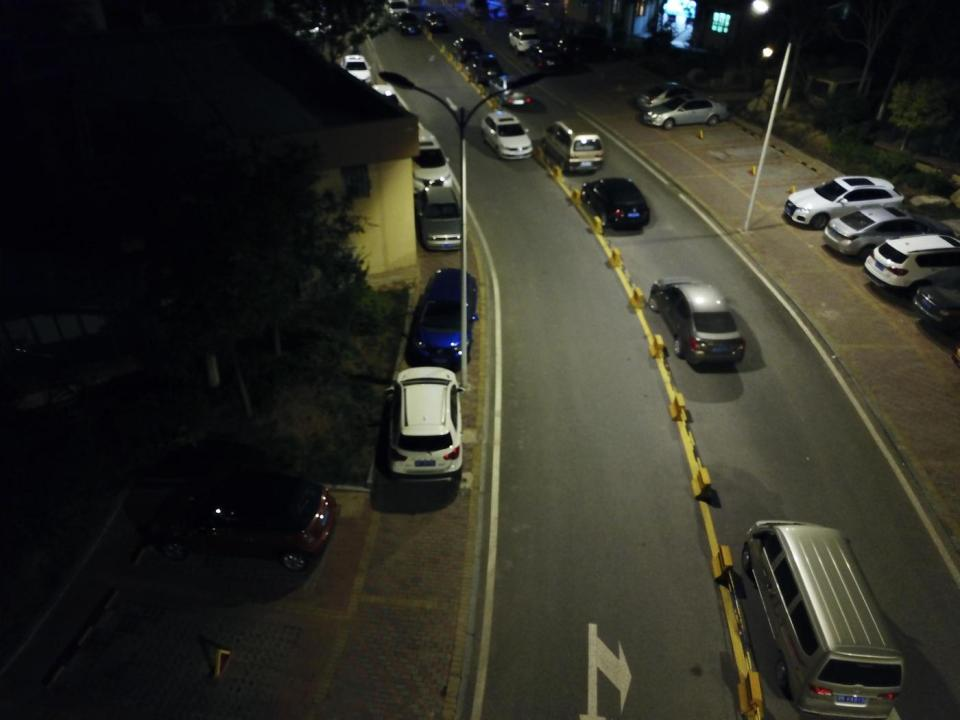car: (138, 468, 339, 574), (386, 366, 467, 486), (646, 272, 747, 368), (823, 204, 956, 262), (411, 269, 479, 370), (784, 174, 908, 228), (862, 231, 960, 296), (578, 171, 654, 240), (397, 116, 453, 194), (413, 187, 472, 253), (643, 93, 735, 128), (632, 78, 714, 114), (352, 73, 410, 123), (483, 108, 534, 164), (555, 36, 619, 63), (527, 43, 578, 74), (489, 74, 537, 105), (335, 53, 371, 85), (467, 55, 506, 84), (508, 26, 542, 54), (454, 37, 485, 64), (394, 12, 425, 38), (423, 9, 449, 34), (383, 0, 412, 19), (464, 0, 491, 20)
van: (738, 519, 906, 720), (548, 114, 604, 171)
